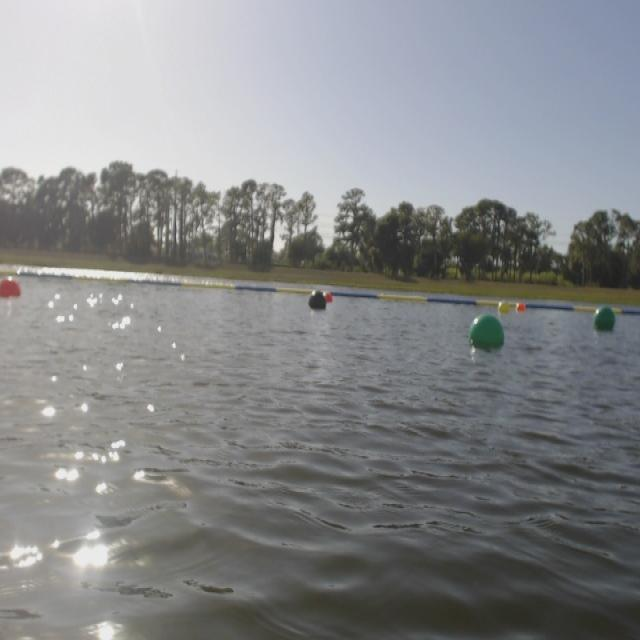Black_Buoy: (300, 290, 326, 313)
Green_Buoy: (463, 316, 508, 357), (592, 305, 614, 330)
Orange__Buoy: (3, 270, 27, 308), (516, 302, 529, 320)
